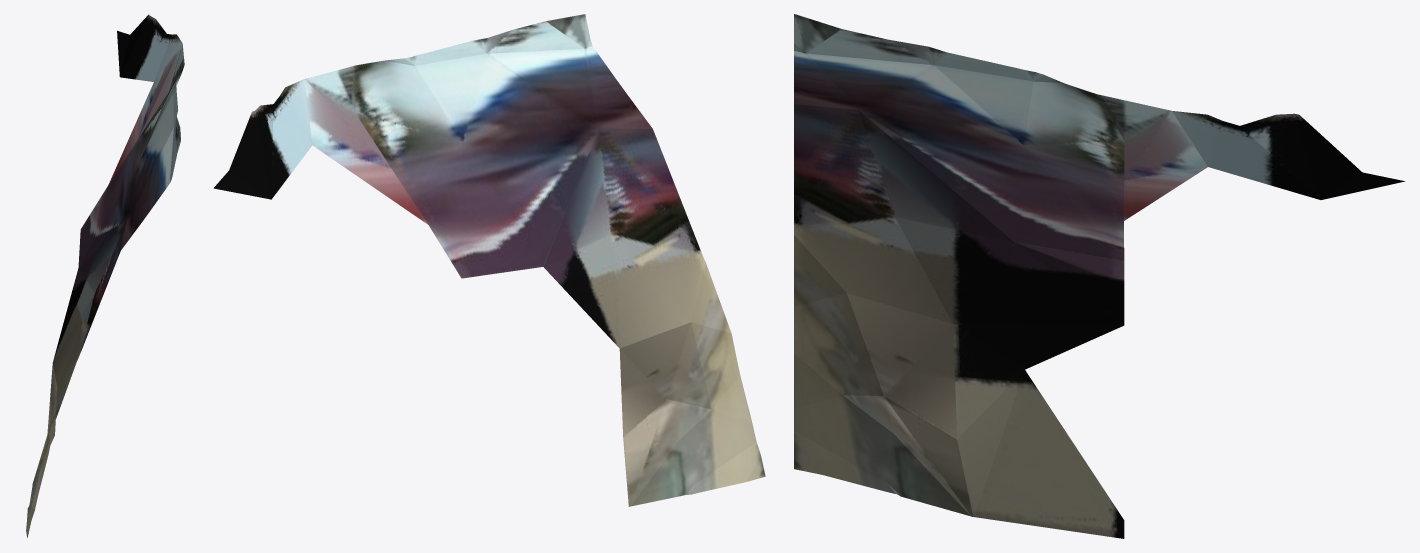
The picture shows the model from 3 angles, left to right: view 1: azimuth 30°, elevation 25°; view 2: azimuth 150°, elevation 25°; view 3: azimuth 270°, elevation 25°; orthographic projection. The views are drawn at different scales.
Size of the model in its own units: 2.77 by 3.35 by 3.22.
2 materials, 2 textured.
